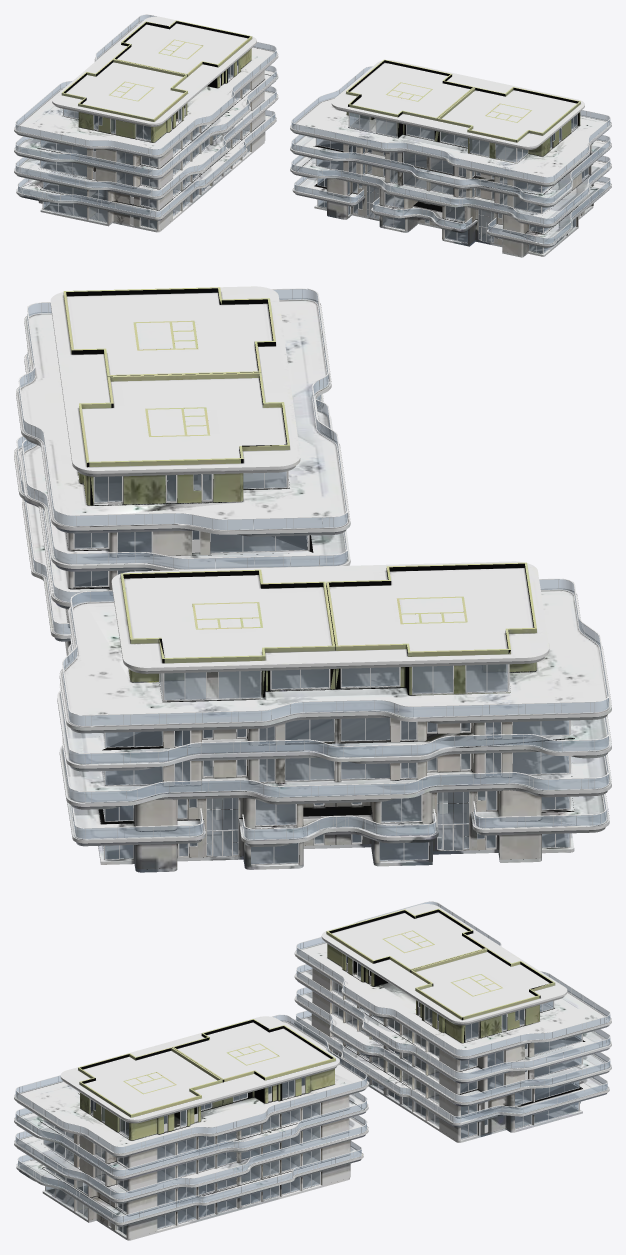
Rendered from Elie Saab_build_3.glb.
3 views of the same model, one above another, from view 1: azimuth 30°, elevation 25°; view 2: azimuth 150°, elevation 25°; view 3: azimuth 270°, elevation 25° (orthographic). The views are drawn at different scales.
Parts seen in each view (by area): view 1: Elie Saab_build.003; view 2: Elie Saab_build.003; view 3: Elie Saab_build.003.
Part boxes in pixels (x1=…): Elie Saab_build.003: x1=14, y1=14, x2=611, y2=257; Elie Saab_build.003: x1=14, y1=286, x2=611, y2=872; Elie Saab_build.003: x1=14, y1=901, x2=611, y2=1240.
Size of the model in its own units: 80.8 by 18.2 by 82.61.
Materials: 7 (3 with a texture image).
